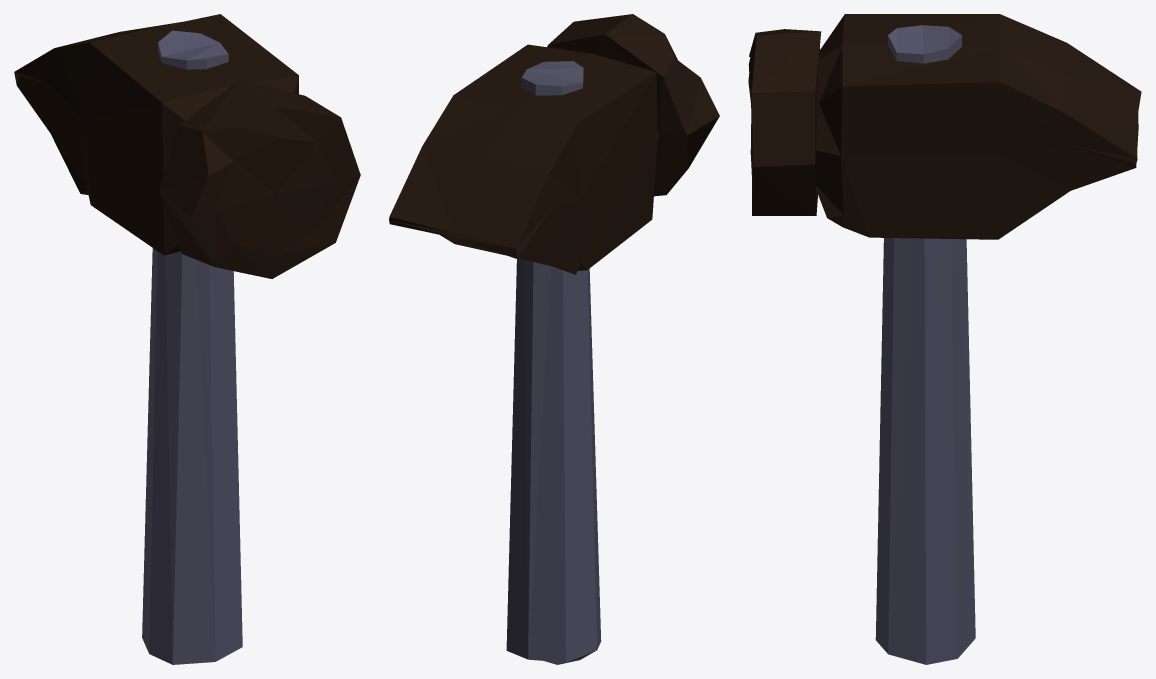
The model's file is SFFA_Hammer_003.fbx.
3 views of the same model, side by side, from view 1: azimuth 30°, elevation 25°; view 2: azimuth 150°, elevation 25°; view 3: azimuth 270°, elevation 25° (orthographic). The views are drawn at different scales.
Parts seen in each view (by area): view 1: SFFA_Hammer_003; view 2: SFFA_Hammer_003; view 3: SFFA_Hammer_003.
Part boxes in pixels (box(x1,y1,x2,y2)): SFFA_Hammer_003: box(14, 14, 360, 664); SFFA_Hammer_003: box(389, 14, 719, 664); SFFA_Hammer_003: box(748, 14, 1141, 664).
Bounding box in the file's own units: 7.09 × 24.04 × 13.91.
